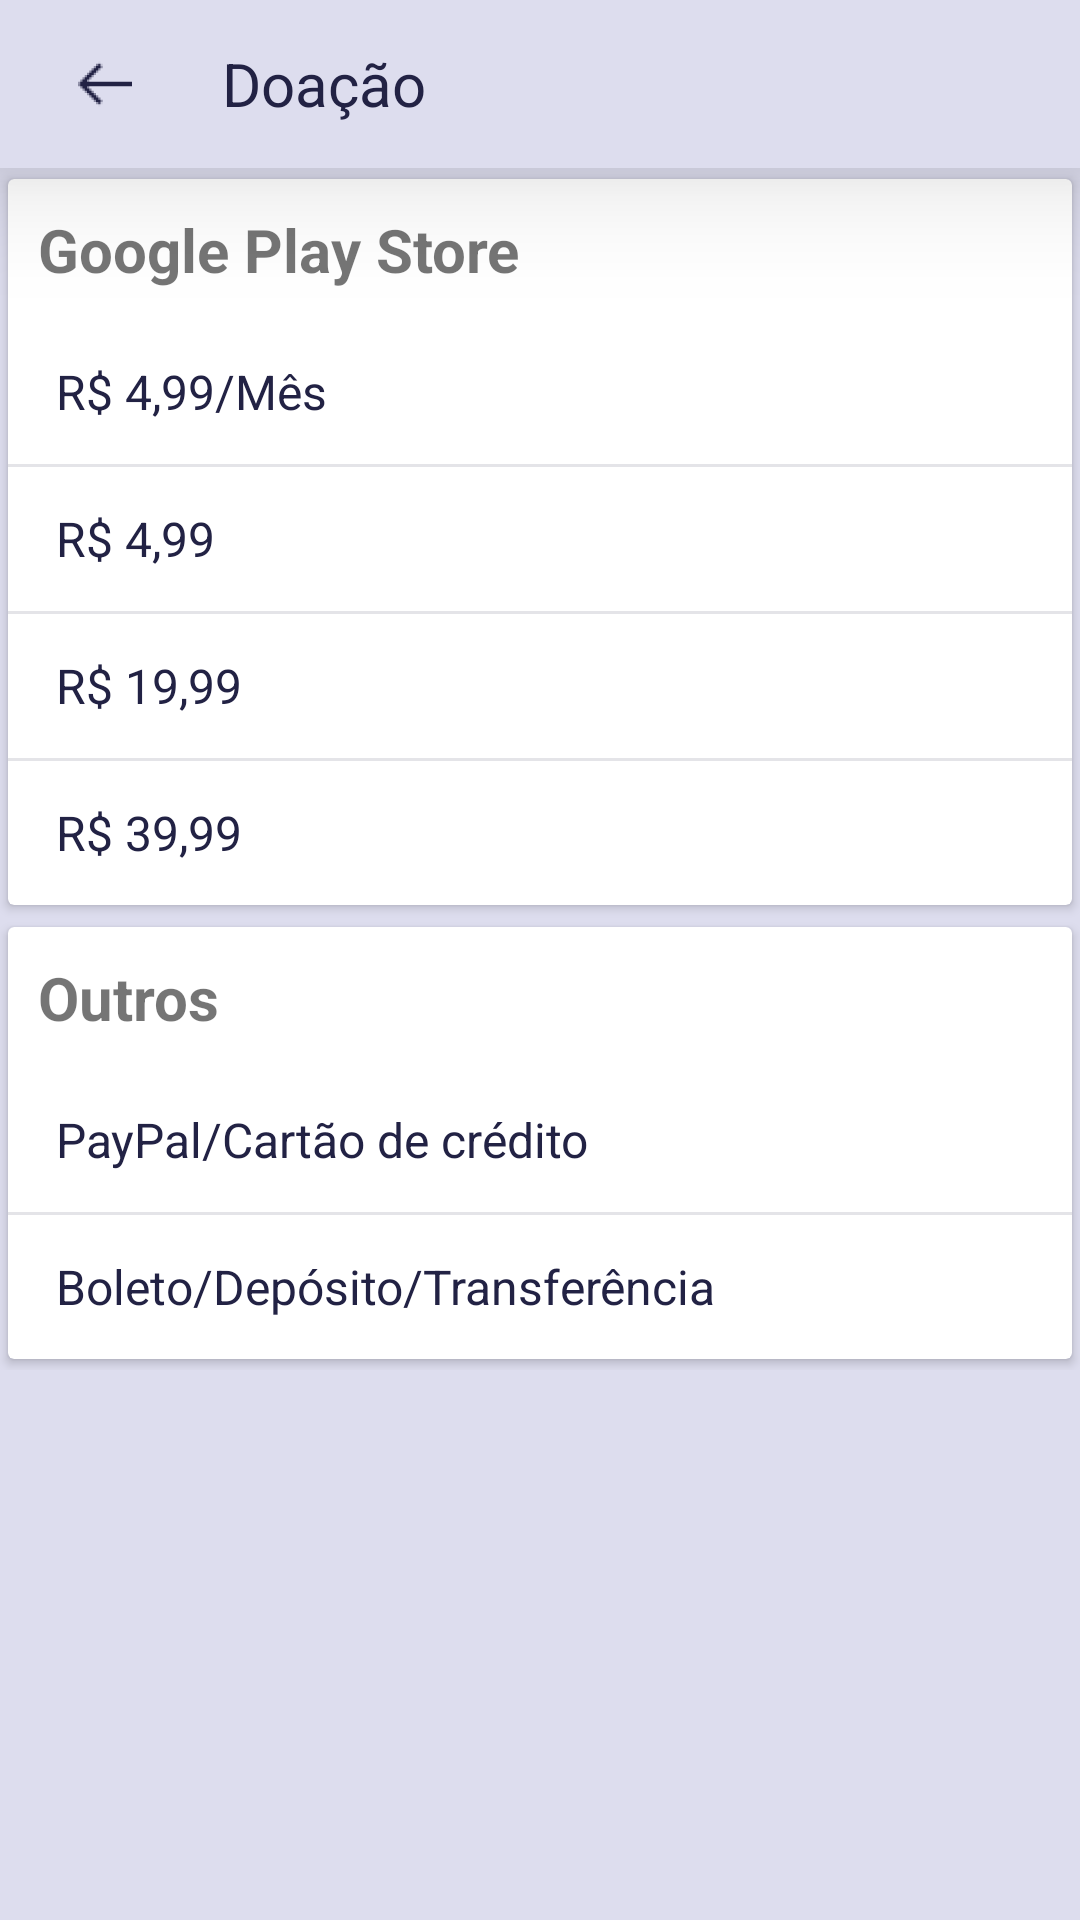

Point at icon controls on the screen. Image size 1080×1920, points as (x,y).
back: (105,84)
